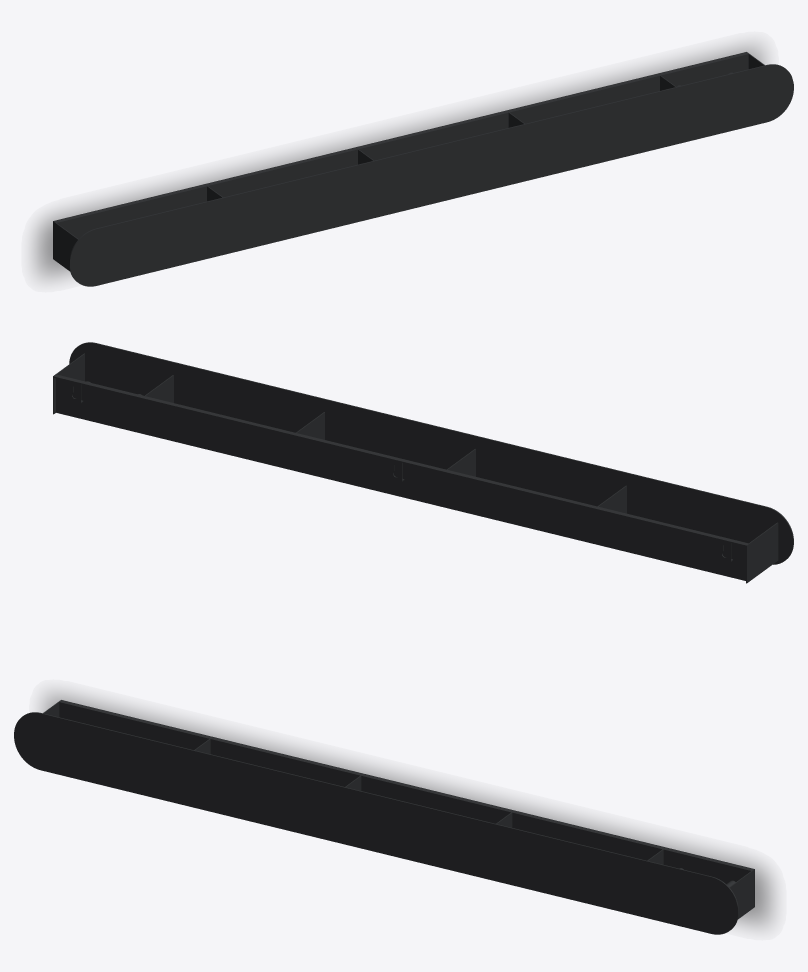
File: round-patron.c772419b0d.ar.glb
3 renders of one model, top to bottom at view 1: azimuth 30°, elevation 25°; view 2: azimuth 150°, elevation 25°; view 3: azimuth 330°, elevation 25°, orthographic.
Parts seen in each view (by area): view 1: NAUO1, object 2; view 2: NAUO1; view 3: NAUO1, object 2.
Boxes of the visible parts, x1,y1,x2,y2 form: NAUO1: (53, 52, 793, 286); object 2: (33, 45, 766, 278); NAUO1: (53, 342, 793, 583); NAUO1: (14, 700, 754, 934); object 2: (41, 693, 774, 926).
Size of the model in its own units: 1.28 by 0.17 by 0.092.
2 materials, 1 textured.
